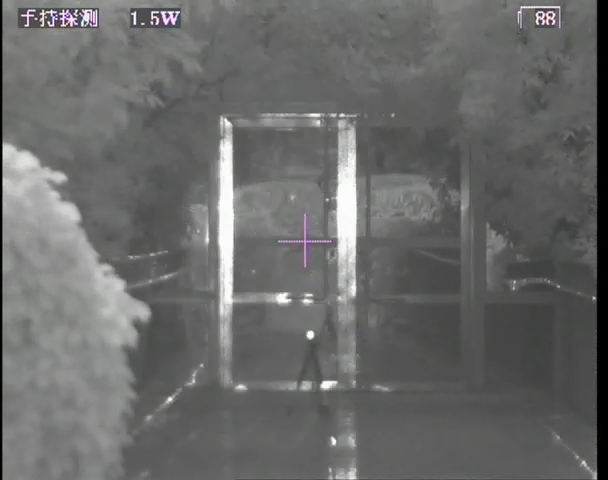my: (305, 328, 317, 343)
